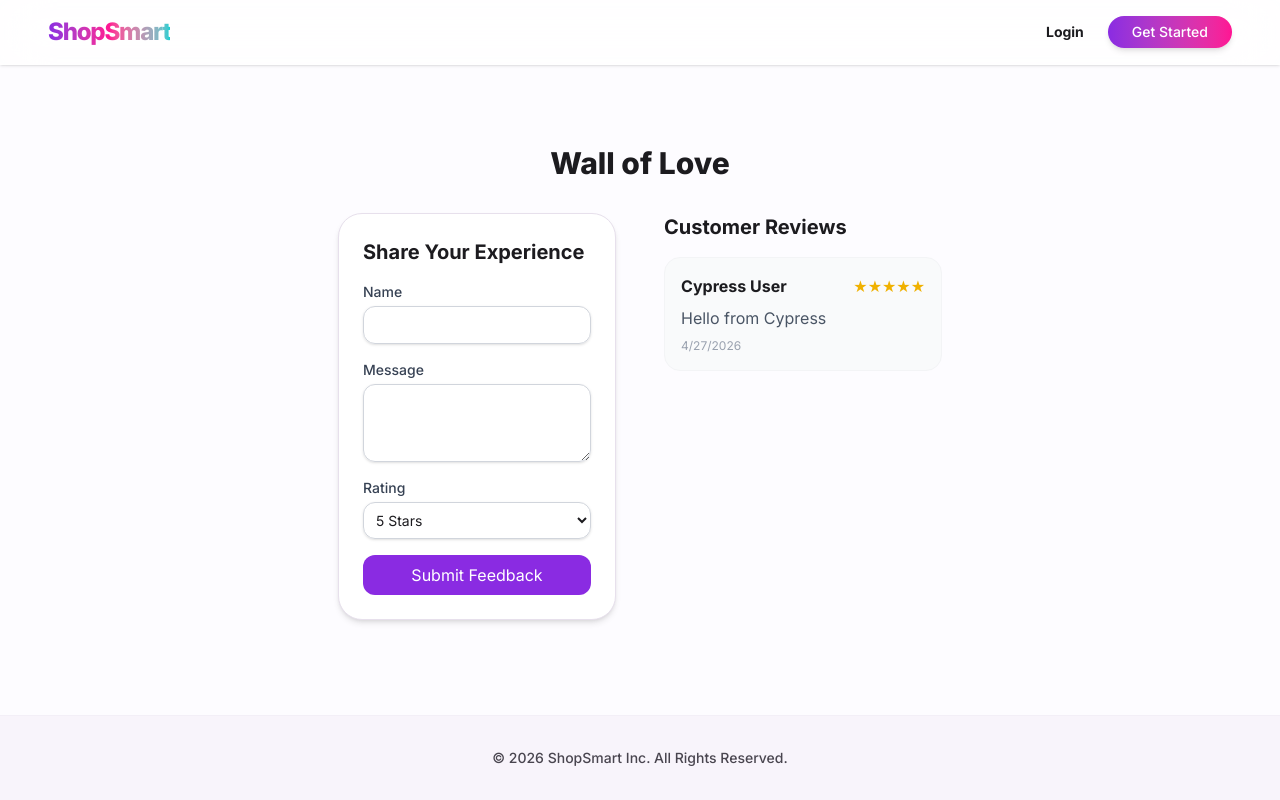
Test: Feedback Flow › should allow a user to visit, fill the form, and see the new feedback
This screenshot has width=1280, height=800.
Expected: the text "Cypress User" is shown, [681, 274, 787, 298]
Expected: the text "Hello from Cypress" is shown, [681, 308, 826, 328]
Note: Fill the form
Type "New Automation User" into the field with id "name". click: (477, 325)
box: [363, 306, 591, 344]
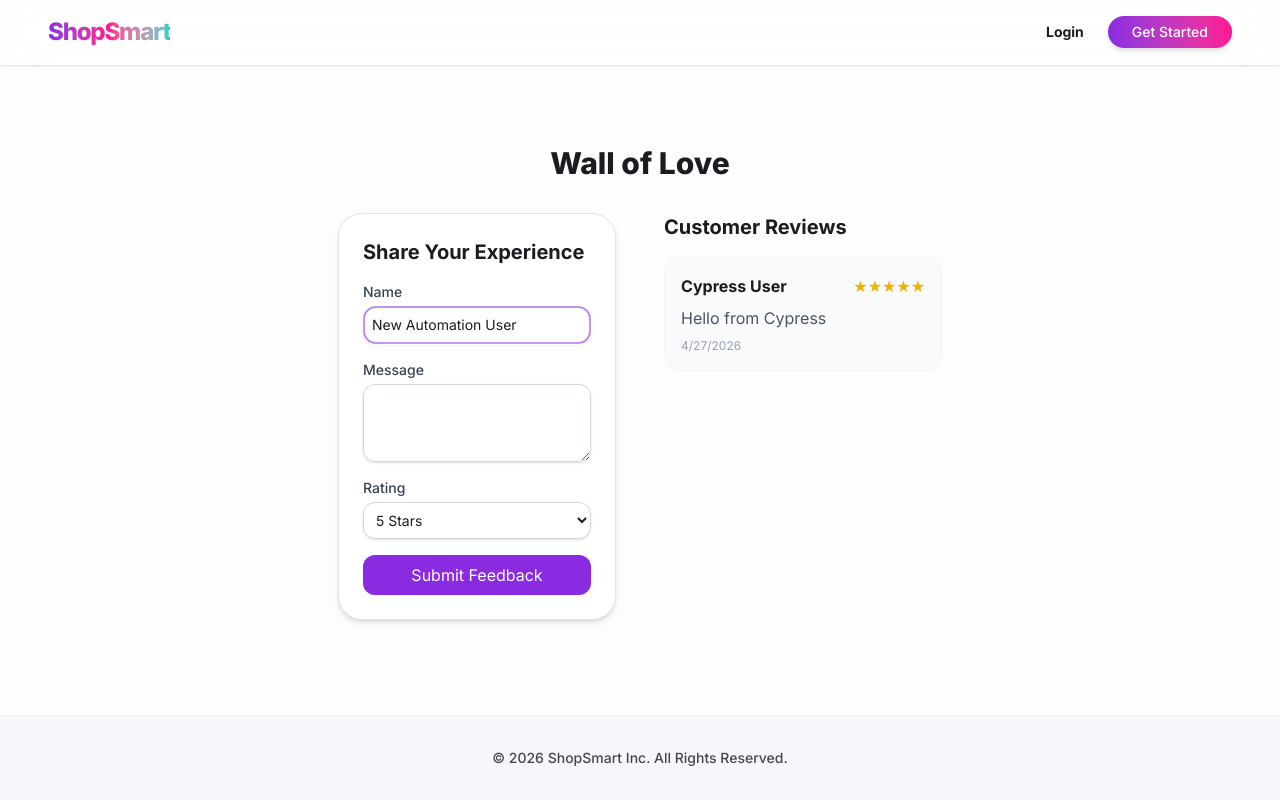
Type "Stable automation message" into the text box with id "message". click: (477, 423)
box: [363, 384, 591, 462]
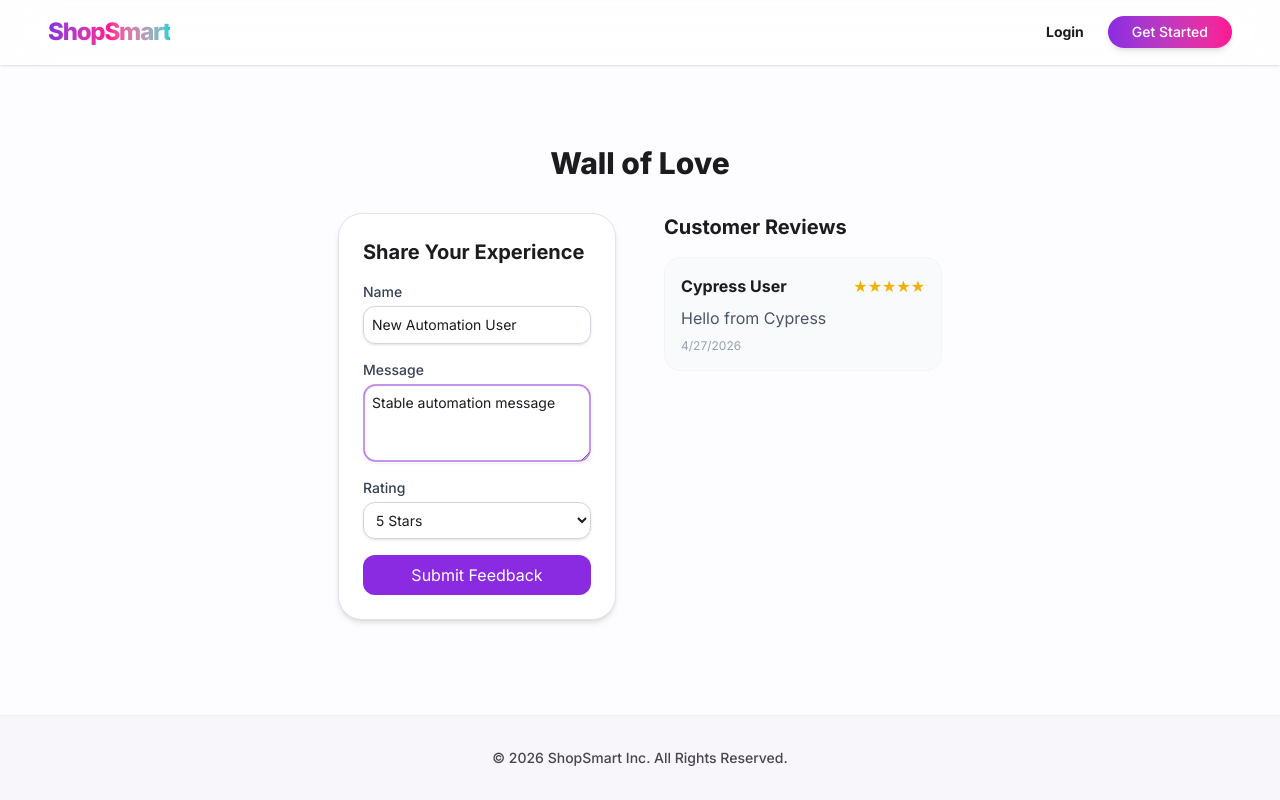
Select "4" in the dropdown with id "rating". click: (477, 521)
box: [363, 502, 591, 539]
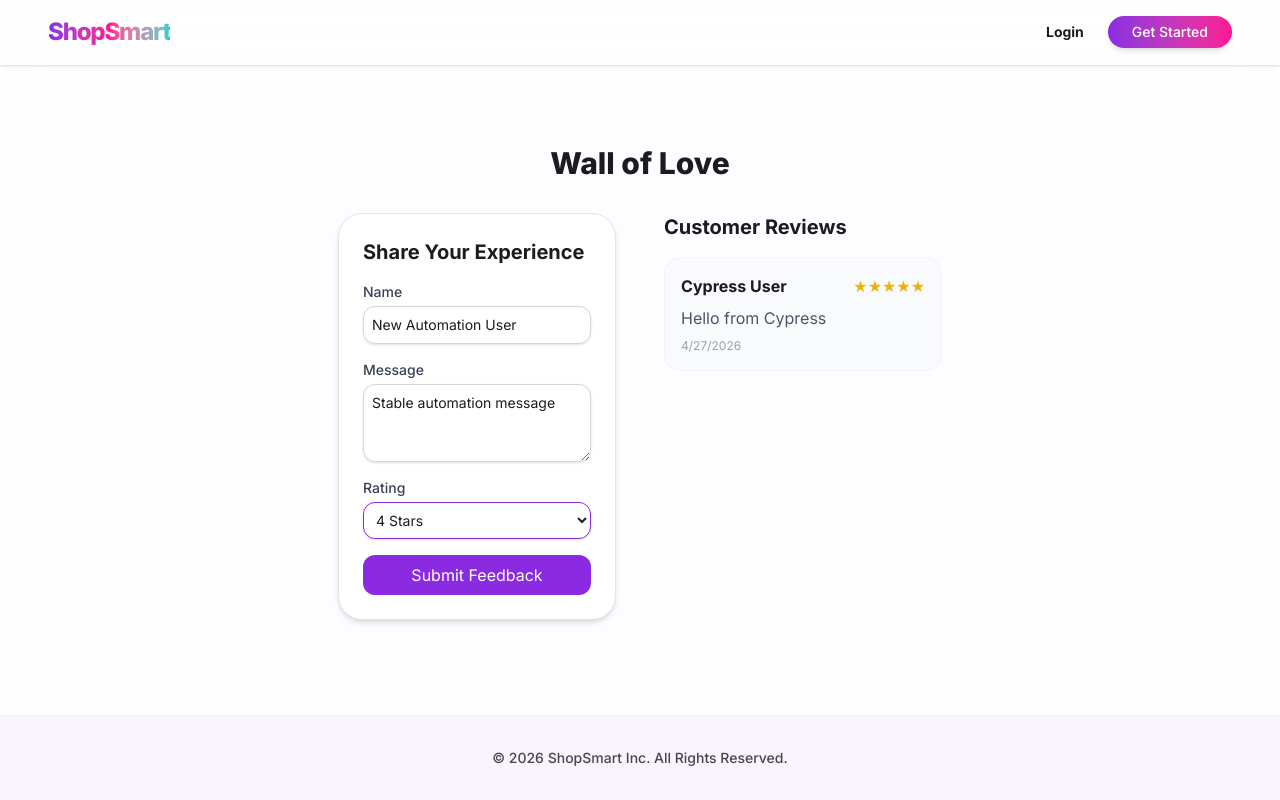
Note: 3. Submit
Click the submit button. click: (477, 575)
box: [363, 555, 591, 595]
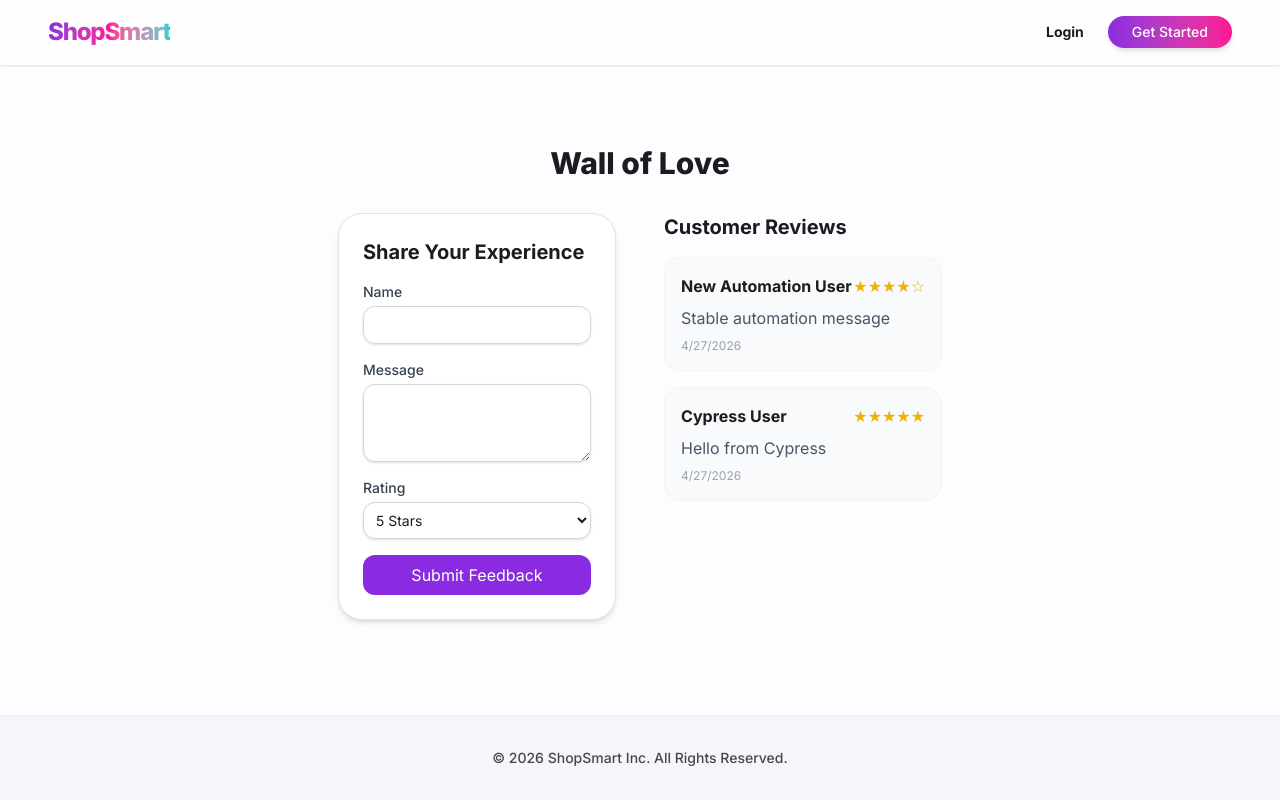
Expected: the text "New Automation User" is shown, [681, 274, 852, 298]
Expected: the text "Stable automation message" is shown, [681, 306, 925, 330]
